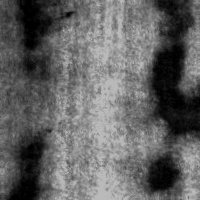patches: (145, 29, 200, 143), (6, 135, 51, 200), (15, 2, 65, 53), (143, 149, 182, 194), (154, 0, 197, 36)
